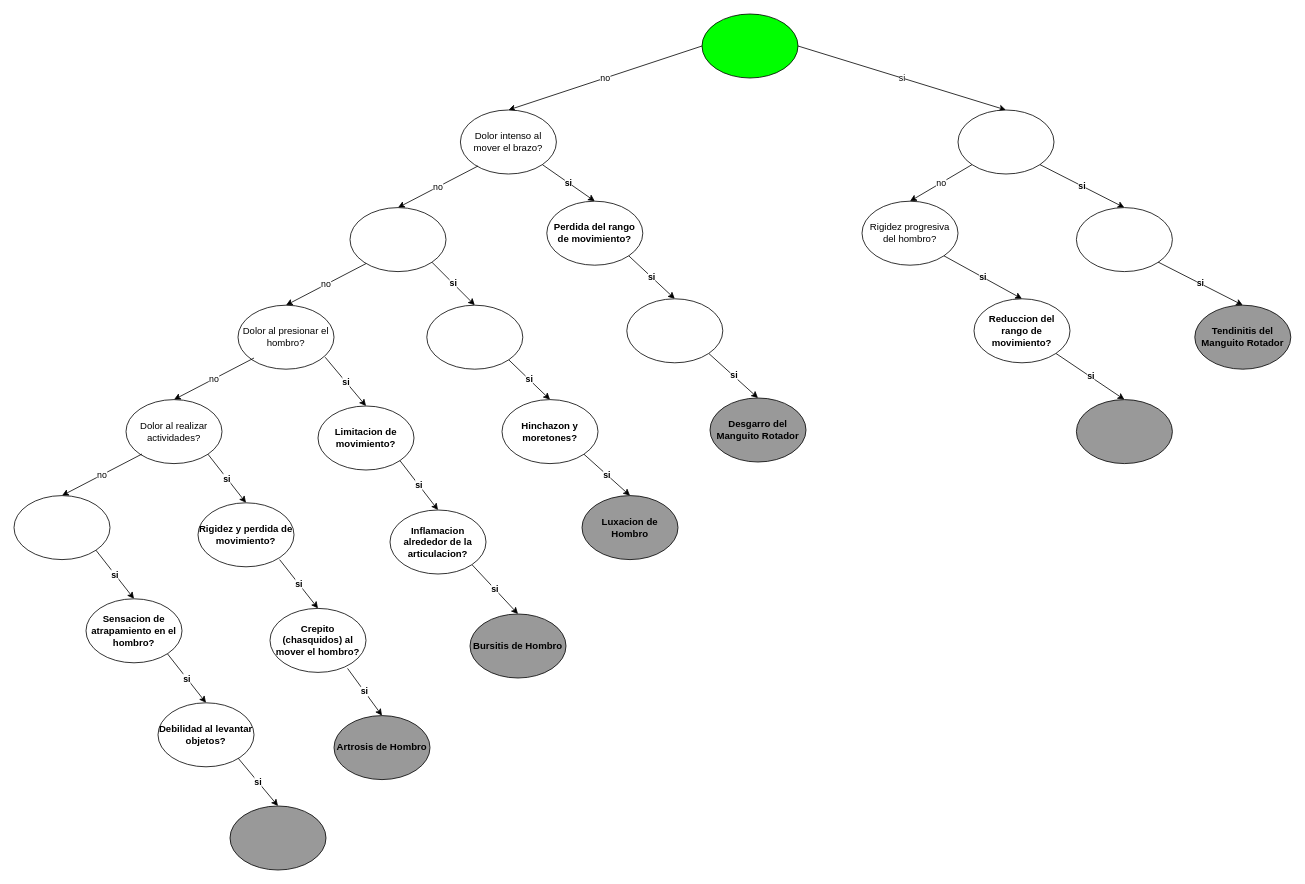
Image size: 1305x884. Some labels were removed from this diagram. The centre of each missing label's shape, as x and y in pixels:
Capsulitis adhesiva (Hombro Congelado): the point at 1124,431
Debilidad significativa en el hombro?: the point at 674,330
Deformidad visible en el hombro?: the point at 474,336
Dificultad para levantar el brazo?: the point at 1005,141
Dolor al levantar el brazo?: the point at 61,527
Dolor al mover el brazo?: the point at 749,45
Dolor inmediato y severo?: the point at 397,239
Pinzamiento Subacromial: the point at 277,837
Sensacion de debilidad en el hombro?: the point at 1124,239
